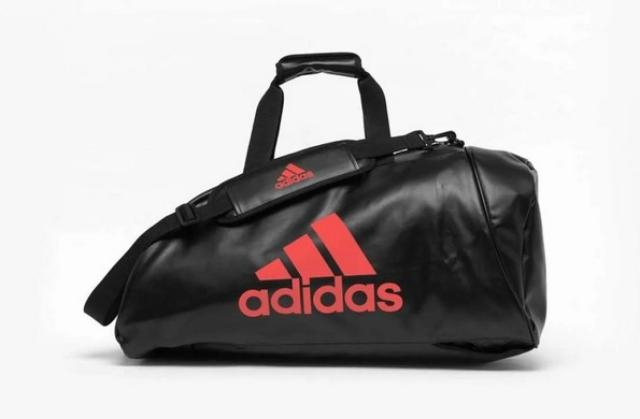Adidas: (249, 205, 385, 285), (233, 276, 411, 322), (265, 155, 320, 195)
